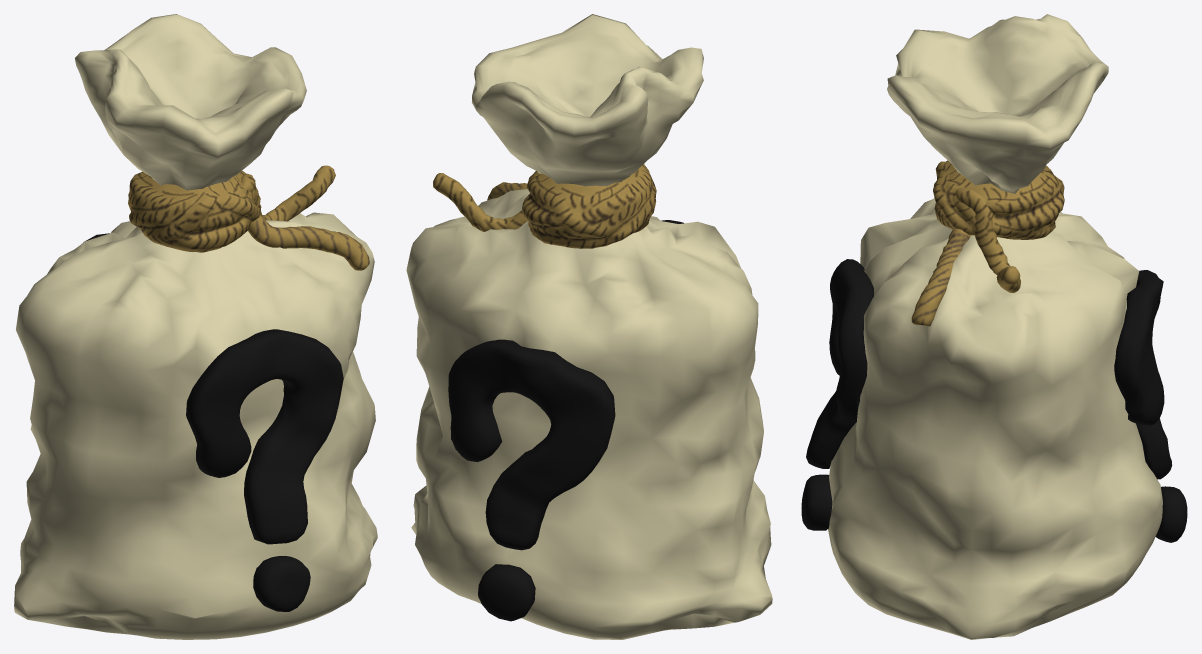
Rendered from Item_bag_rev02_FBX_LowPoly_rev01_BLACK.fbx.
3 views of the same model, side by side, from view 1: azimuth 30°, elevation 25°; view 2: azimuth 150°, elevation 25°; view 3: azimuth 270°, elevation 25° (orthographic). The views are drawn at different scales.
Parts seen in each view (by area): view 1: Item_bag_bag, Item_bag_top, Item_bag_Question_A, Item_bag_StringC, Item_bag_stringB, Item_bag_Question_A_dot, Item_bag_stringA; view 2: Item_bag_bag, Item_bag_top, Item_bag_Question_B, Item_bag_StringC, Item_bag_Question_B_dot, Item_bag_stringA; view 3: Item_bag_bag, Item_bag_top, Item_bag_Question_A, Item_bag_Question_B, Item_bag_StringC, Item_bag_stringA, Item_bag_stringB, Item_bag_Question_A_dot, Item_bag_Question_B_dot.
Part boxes in pixels (left/top/right/bottom): Item_bag_bag: left=14, top=212, right=377, bottom=639; Item_bag_top: left=75, top=14, right=306, bottom=190; Item_bag_Question_A: left=186, top=329, right=343, bottom=544; Item_bag_StringC: left=128, top=170, right=259, bottom=252; Item_bag_stringB: left=248, top=215, right=369, bottom=270; Item_bag_Question_A_dot: left=253, top=556, right=310, bottom=611; Item_bag_stringA: left=241, top=165, right=335, bottom=221; Item_bag_bag: left=406, top=189, right=772, bottom=639; Item_bag_top: left=471, top=14, right=703, bottom=186; Item_bag_Question_B: left=448, top=339, right=615, bottom=550; Item_bag_StringC: left=521, top=164, right=656, bottom=248; Item_bag_Question_B_dot: left=478, top=564, right=535, bottom=621; Item_bag_stringA: left=433, top=173, right=528, bottom=231; Item_bag_bag: left=828, top=198, right=1162, bottom=639; Item_bag_top: left=887, top=14, right=1108, bottom=193; Item_bag_Question_A: left=806, top=259, right=873, bottom=468; Item_bag_Question_B: left=1114, top=270, right=1172, bottom=479; Item_bag_StringC: left=933, top=160, right=1064, bottom=239; Item_bag_stringA: left=955, top=188, right=1020, bottom=292; Item_bag_stringB: left=911, top=228, right=970, bottom=326; Item_bag_Question_A_dot: left=801, top=474, right=832, bottom=530; Item_bag_Question_B_dot: left=1155, top=486, right=1187, bottom=542.
Size of the model in its own units: 16.23 by 23.64 by 15.91.
3 materials, 3 textured.
